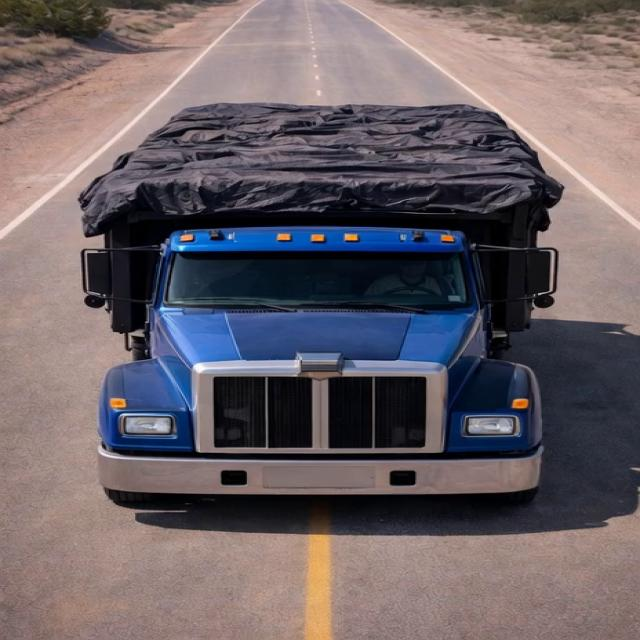Box: (80, 99, 582, 226)
Truck: (64, 70, 599, 497)
